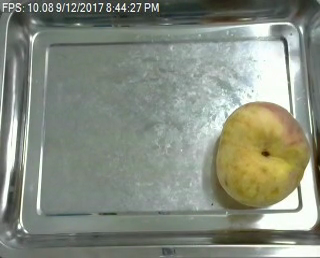Peach: (215, 100, 310, 207)
